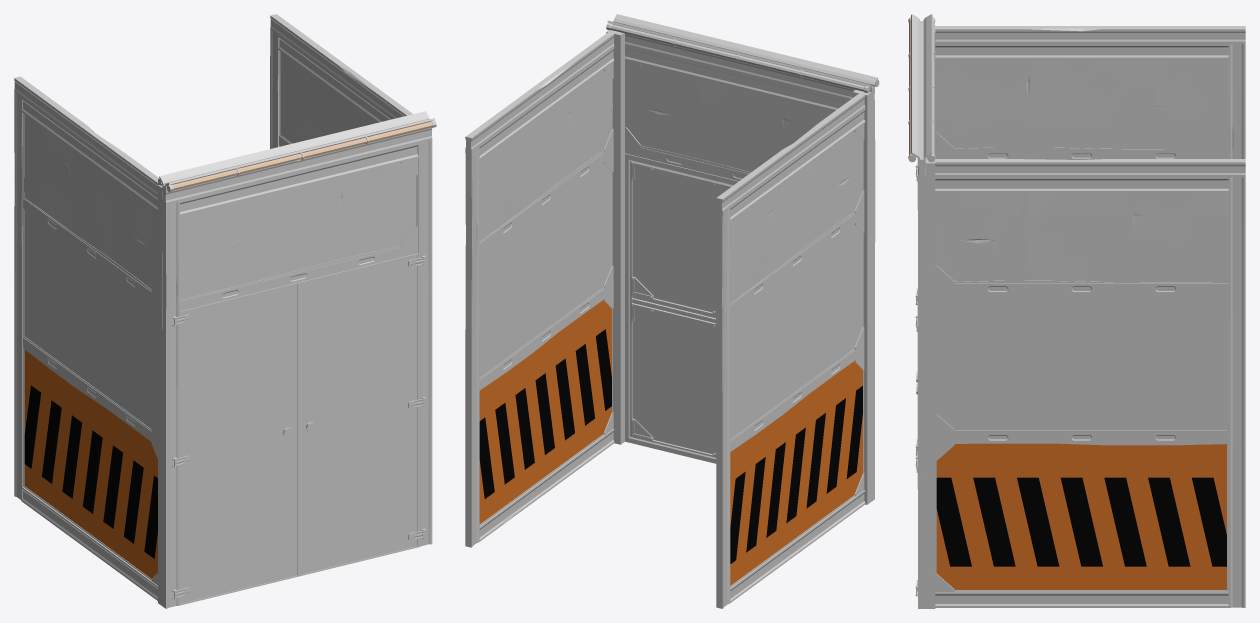
The model's file is SM_Wall_Angle_Door_02.glb.
3 renders of one model, left to right at view 1: azimuth 30°, elevation 25°; view 2: azimuth 150°, elevation 25°; view 3: azimuth 270°, elevation 25°, orthographic. The views are drawn at different scales.
Visible parts, largest first — view 1: SM_Wall_Angle_Door_02, SM_Door_Angle_Right_For_Wall_Door_02, SM_Door_Angle_Left_For_Wall_Door_02; view 2: SM_Wall_Angle_Door_02, SM_Door_Angle_Right_For_Wall_Door_02; view 3: SM_Wall_Angle_Door_02.
Boxes of the visible parts, bbox=[...] form: SM_Wall_Angle_Door_02: bbox=[14, 14, 436, 608]; SM_Door_Angle_Right_For_Wall_Door_02: bbox=[299, 253, 425, 576]; SM_Door_Angle_Left_For_Wall_Door_02: bbox=[174, 282, 298, 605]; SM_Wall_Angle_Door_02: bbox=[465, 14, 879, 608]; SM_Door_Angle_Right_For_Wall_Door_02: bbox=[625, 153, 738, 463]; SM_Wall_Angle_Door_02: bbox=[908, 14, 1245, 608].
Size of the model in its own units: 2 by 3.07 by 2.06.
